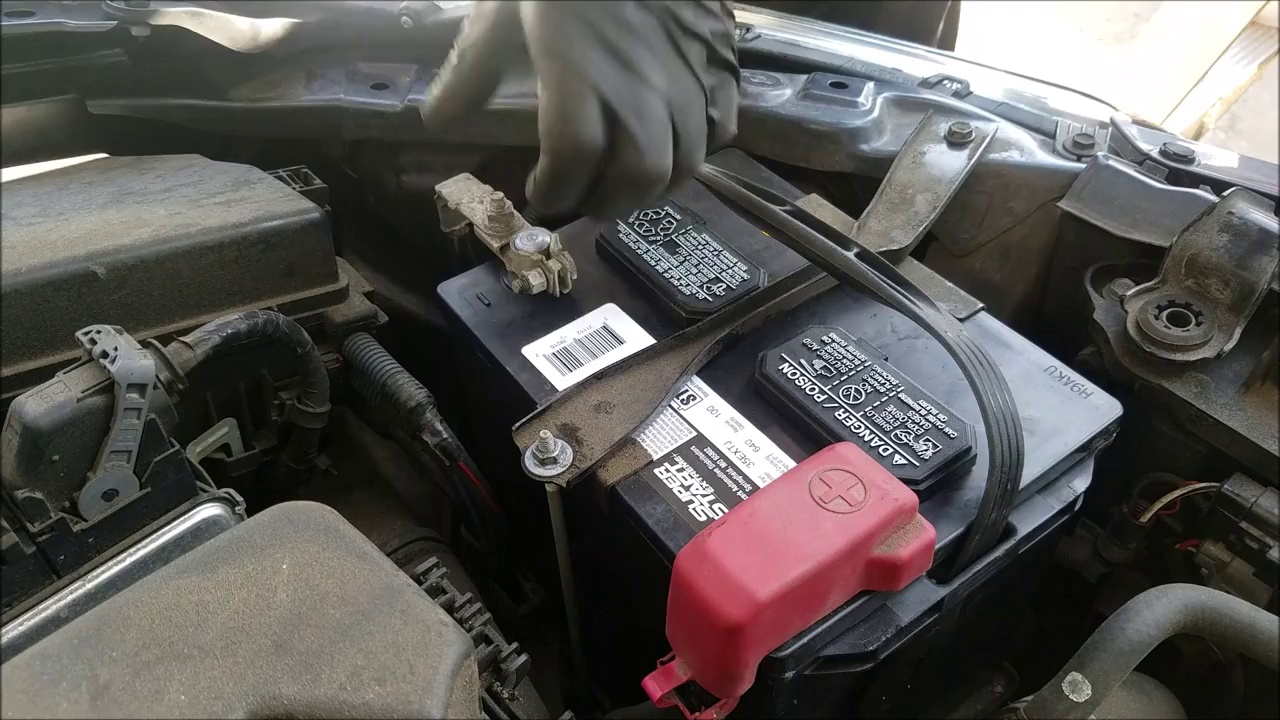battery: (434, 138, 1121, 691)
neg_connected: (403, 146, 579, 309)
neg_touched: (425, 86, 679, 321)
pos_connected: (655, 441, 939, 703)
